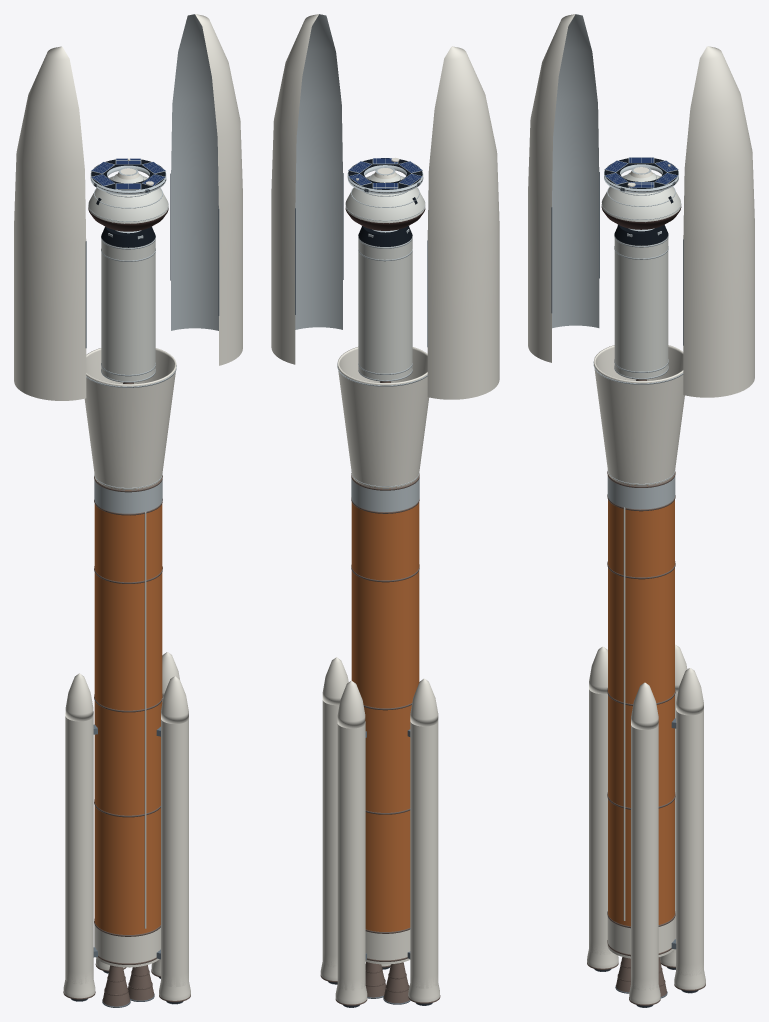
The model's file is curiosity_fairing_open.glb.
3 views of the same model, side by side, from view 1: azimuth 30°, elevation 25°; view 2: azimuth 150°, elevation 25°; view 3: azimuth 330°, elevation 25° (orthographic).
Parts seen in each view (by area): view 1: atlas_v_core.mesh_Spray-on_insulation, atlas_v_fairing_l.mesh_Warm_white_enamel, atlas_v_fairing_r.mesh_Satin_aluminum, atlas_v_boattail.mesh_Warm_white_enamel, atlas_v_fairing_r.mesh_Warm_white_enamel, atlas_v_srb_04.mesh_Warm_white_enamel, atlas_v_srb_01.mesh_Warm_white_enamel, atlas_v_centaur.mesh_Pale_thermal_blanket, mars_backshell.mesh_Pale_thermal_blanket, atlas_v_core.mesh_Warm_white_enamel, atlas_v_core.mesh_Satin_aluminum, atlas_v_core.mesh_Pale_thermal_blanket (+10 smaller); view 2: atlas_v_core.mesh_Spray-on_insulation, atlas_v_fairing_l.mesh_Warm_white_enamel, atlas_v_fairing_r.mesh_Satin_aluminum, atlas_v_boattail.mesh_Warm_white_enamel, atlas_v_fairing_r.mesh_Warm_white_enamel, atlas_v_srb_04.mesh_Warm_white_enamel, atlas_v_srb_03.mesh_Warm_white_enamel, atlas_v_centaur.mesh_Pale_thermal_blanket, atlas_v_srb_02.mesh_Warm_white_enamel, mars_backshell.mesh_Pale_thermal_blanket, atlas_v_core.mesh_Satin_aluminum, atlas_v_core.mesh_Warm_white_enamel (+10 smaller); view 3: atlas_v_fairing_r.mesh_Warm_white_enamel, atlas_v_core.mesh_Spray-on_insulation, atlas_v_fairing_l.mesh_Satin_aluminum, atlas_v_boattail.mesh_Warm_white_enamel, atlas_v_fairing_l.mesh_Warm_white_enamel, atlas_v_centaur.mesh_Pale_thermal_blanket, atlas_v_srb_02.mesh_Warm_white_enamel, atlas_v_srb_01.mesh_Warm_white_enamel, atlas_v_srb_04.mesh_Warm_white_enamel, mars_backshell.mesh_Pale_thermal_blanket, atlas_v_core.mesh_Satin_aluminum, atlas_v_core.mesh_Pale_thermal_blanket (+10 smaller).
Part boxes in pixels (left/top/right/bottom): atlas_v_core.mesh_Spray-on_insulation: left=94, top=479, right=162, bottom=934; atlas_v_fairing_l.mesh_Warm_white_enamel: left=14, top=46, right=86, bottom=400; atlas_v_fairing_r.mesh_Satin_aluminum: left=171, top=14, right=218, bottom=330; atlas_v_boattail.mesh_Warm_white_enamel: left=84, top=348, right=176, bottom=487; atlas_v_fairing_r.mesh_Warm_white_enamel: left=195, top=14, right=242, bottom=365; atlas_v_srb_04.mesh_Warm_white_enamel: left=65, top=716, right=93, bottom=984; atlas_v_srb_01.mesh_Warm_white_enamel: left=161, top=719, right=188, bottom=987; atlas_v_centaur.mesh_Pale_thermal_blanket: left=101, top=237, right=155, bottom=381; mars_backshell.mesh_Pale_thermal_blanket: left=88, top=174, right=168, bottom=223; atlas_v_core.mesh_Warm_white_enamel: left=94, top=924, right=160, bottom=967; atlas_v_core.mesh_Satin_aluminum: left=94, top=479, right=162, bottom=513; atlas_v_core.mesh_Pale_thermal_blanket: left=144, top=512, right=146, bottom=928; atlas_v_core.mesh_Spray-on_insulation: left=351, top=478, right=419, bottom=931; atlas_v_fairing_l.mesh_Warm_white_enamel: left=427, top=46, right=499, bottom=399; atlas_v_fairing_r.mesh_Satin_aluminum: left=295, top=14, right=342, bottom=329; atlas_v_boattail.mesh_Warm_white_enamel: left=337, top=347, right=429, bottom=486; atlas_v_fairing_r.mesh_Warm_white_enamel: left=271, top=14, right=318, bottom=364; atlas_v_srb_04.mesh_Warm_white_enamel: left=410, top=721, right=438, bottom=988; atlas_v_srb_03.mesh_Warm_white_enamel: left=337, top=723, right=365, bottom=990; atlas_v_centaur.mesh_Pale_thermal_blanket: left=358, top=236, right=412, bottom=380; atlas_v_srb_02.mesh_Warm_white_enamel: left=322, top=700, right=339, bottom=967; mars_backshell.mesh_Pale_thermal_blanket: left=345, top=173, right=425, bottom=222; atlas_v_core.mesh_Satin_aluminum: left=351, top=477, right=419, bottom=512; atlas_v_core.mesh_Warm_white_enamel: left=365, top=929, right=410, bottom=964; atlas_v_fairing_r.mesh_Warm_white_enamel: left=683, top=46, right=754, bottom=397; atlas_v_core.mesh_Spray-on_insulation: left=608, top=476, right=674, bottom=926; atlas_v_fairing_l.mesh_Satin_aluminum: left=552, top=14, right=599, bottom=328; atlas_v_boattail.mesh_Warm_white_enamel: left=594, top=345, right=684, bottom=483; atlas_v_fairing_l.mesh_Warm_white_enamel: left=528, top=14, right=575, bottom=362; atlas_v_centaur.mesh_Pale_thermal_blanket: left=614, top=237, right=668, bottom=378; atlas_v_srb_02.mesh_Warm_white_enamel: left=676, top=710, right=703, bottom=976; atlas_v_srb_01.mesh_Warm_white_enamel: left=631, top=725, right=658, bottom=990; atlas_v_srb_04.mesh_Warm_white_enamel: left=589, top=689, right=612, bottom=954; mars_backshell.mesh_Pale_thermal_blanket: left=601, top=172, right=681, bottom=221; atlas_v_core.mesh_Satin_aluminum: left=607, top=475, right=675, bottom=509; atlas_v_core.mesh_Pale_thermal_blanket: left=623, top=507, right=625, bottom=920.
Bounding box in the file's own units: 14 × 60 × 7.06.
